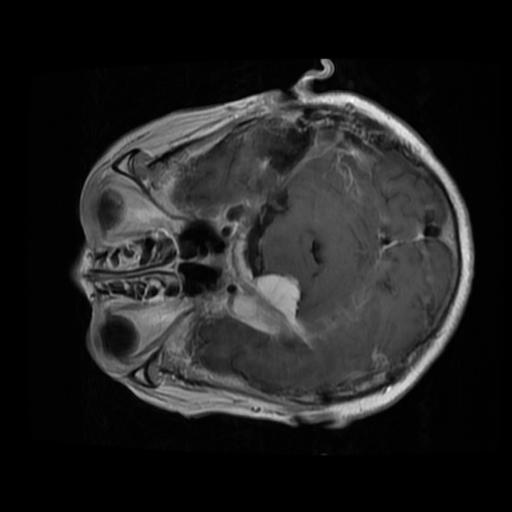meningioma: (232, 274, 302, 336)
